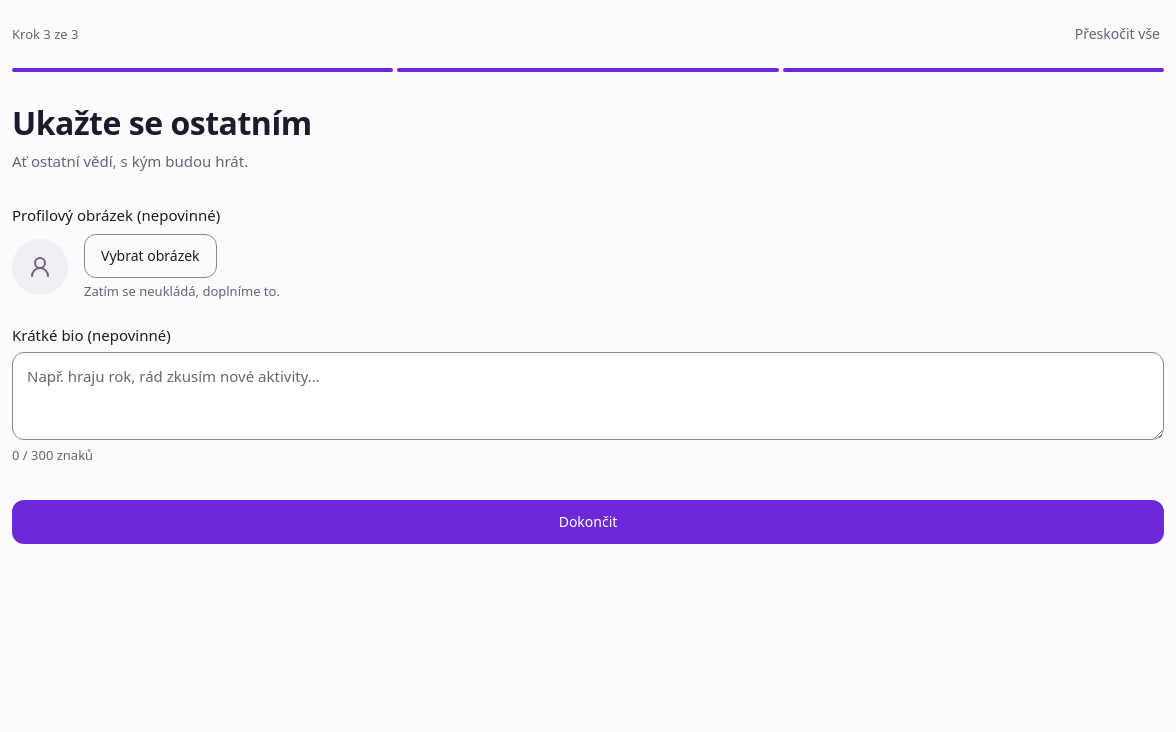
ProfileStep › counts the characters of the bio
Expected: the text "0 / 300 znaků" is shown, [12,446,93,464]
Type "Hraju rok" into the text box labelled "Krátké bio (nepovinné)" at point(588, 396), box [12,352,1164,440]
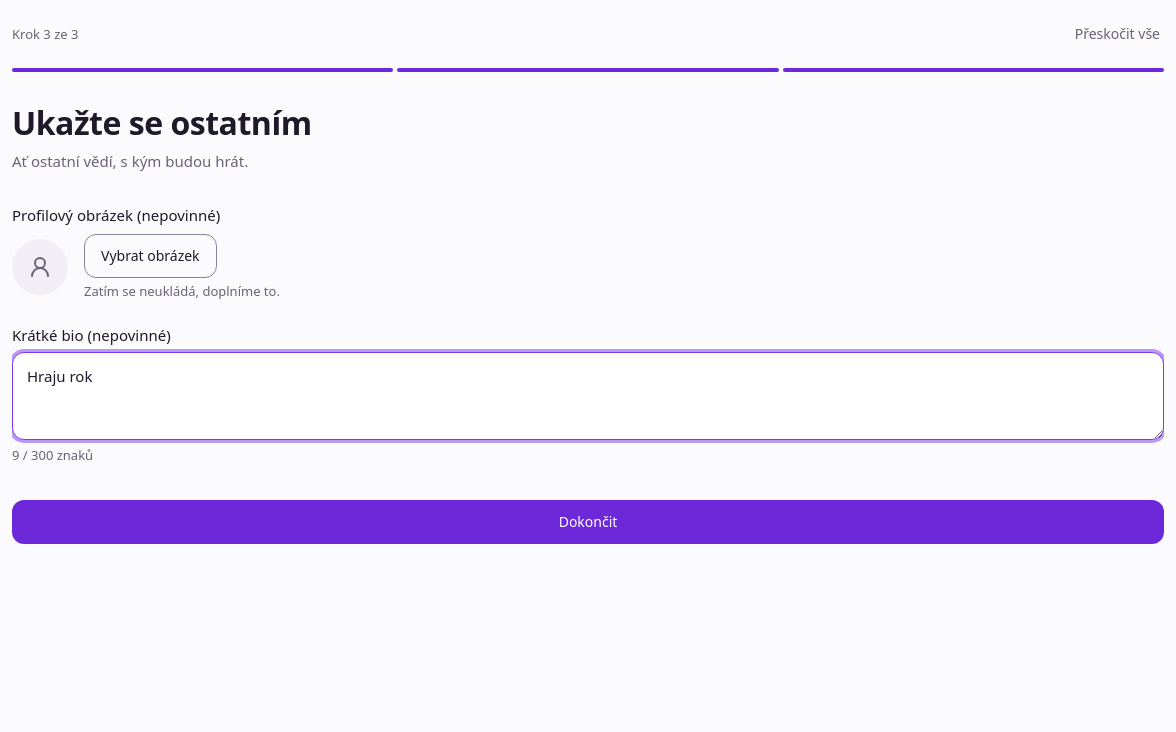
Result: the text "9 / 300 znaků" is shown at [12,446,93,464]
